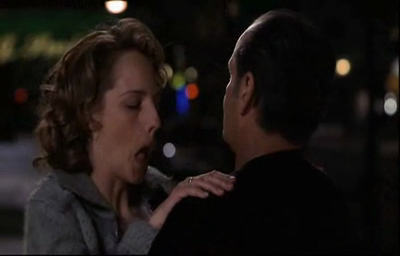face: (107, 62, 161, 187)
mcu: (1, 1, 400, 256)
person: (147, 8, 364, 254), (22, 18, 236, 254)
